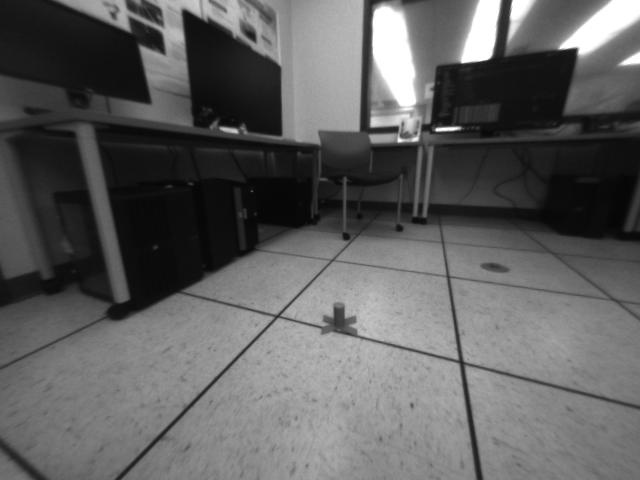X: (319, 300, 358, 337)
